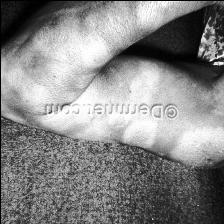Potentially Malignant Skin Tumors: (50, 115, 161, 147), (168, 123, 224, 162), (108, 66, 166, 100)
